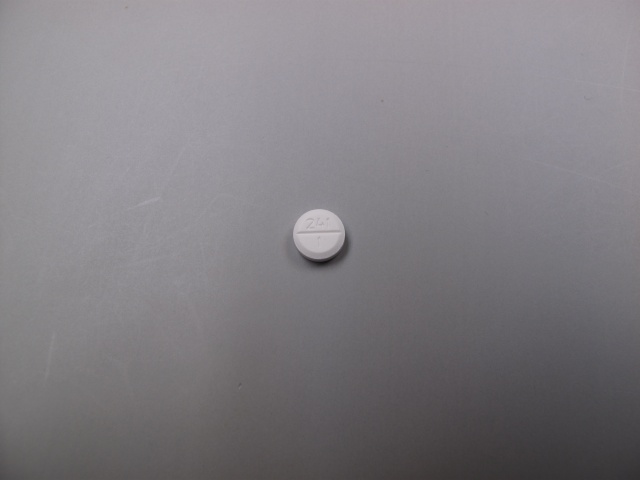1: (315, 234, 323, 248), (325, 217, 331, 228)
2: (305, 215, 315, 229)
4: (315, 217, 324, 229)
|: (296, 228, 344, 237)
